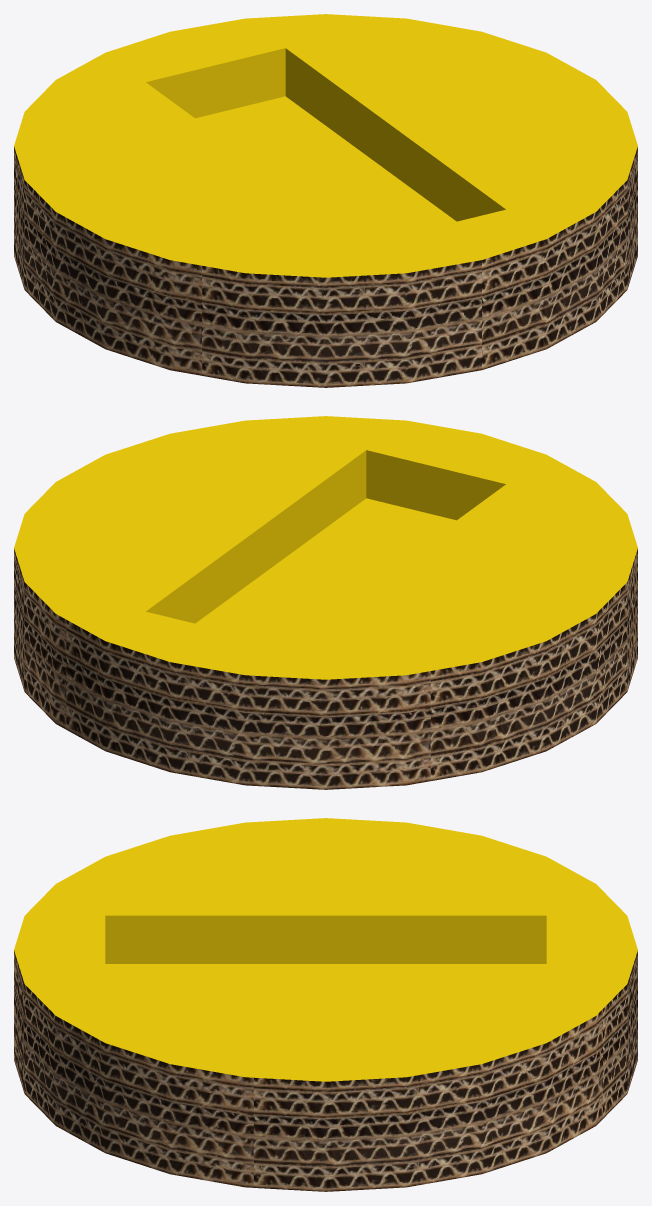
The model's file is Coin.dae.
3 renders of one model, top to bottom at view 1: azimuth 30°, elevation 25°; view 2: azimuth 150°, elevation 25°; view 3: azimuth 270°, elevation 25°, orthographic.
Visible parts, largest first — view 1: SketchUp (×3); view 2: SketchUp (×3); view 3: SketchUp (×3).
Part boxes in pixels (x1,y1,x2,y2): SketchUp (×3): (14,14,637,387); SketchUp (×3): (14,416,637,789); SketchUp (×3): (14,818,637,1191).
Bounding box in the file's own units: 58.62 × 58.62 × 11.42.
